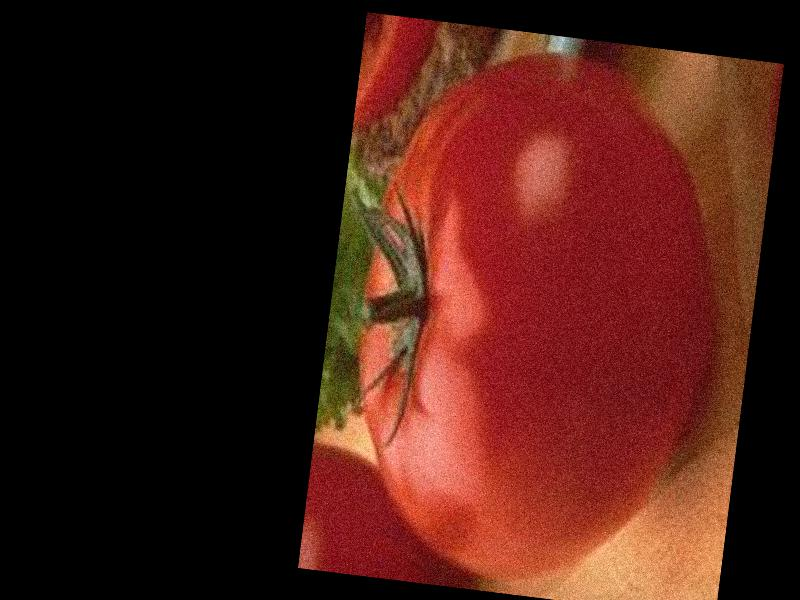Tomato: (332, 35, 735, 598)
